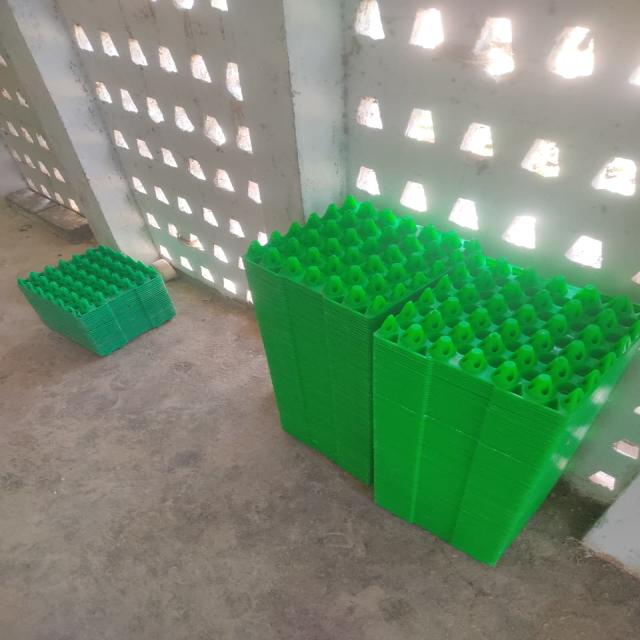egg_tray: (244, 196, 483, 482), (72, 0, 265, 302), (377, 259, 639, 412), (245, 196, 481, 315), (18, 246, 174, 354), (0, 55, 78, 211), (19, 247, 158, 316), (0, 120, 79, 212), (159, 0, 193, 19), (74, 7, 79, 19), (197, 4, 202, 10), (263, 145, 265, 151), (259, 177, 261, 179), (157, 16, 157, 17)
